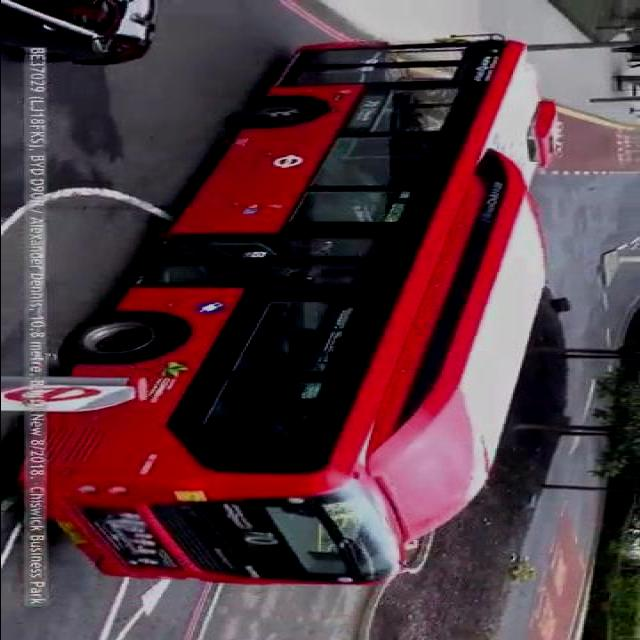bus: (33, 24, 575, 617)
